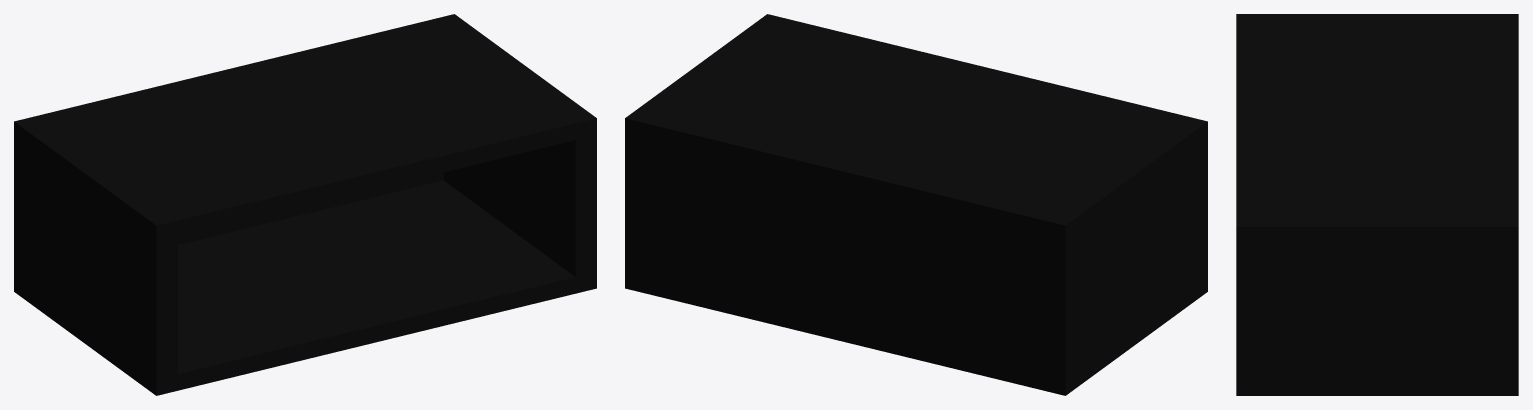
The model's file is Itr_Wardrobe3_Body1_05.FBX.
The picture shows the model from 3 angles, left to right: view 1: azimuth 30°, elevation 25°; view 2: azimuth 150°, elevation 25°; view 3: azimuth 270°, elevation 25°; orthographic projection.
Parts seen in each view (by area): view 1: Itr_Wardrobe3_Body1_05; view 2: Itr_Wardrobe3_Body1_05; view 3: Itr_Wardrobe3_Body1_05.
Part boxes in pixels (left/top/right/bottom): Itr_Wardrobe3_Body1_05: left=14, top=14, right=596, bottom=395; Itr_Wardrobe3_Body1_05: left=625, top=14, right=1207, bottom=395; Itr_Wardrobe3_Body1_05: left=1236, top=14, right=1518, bottom=395.
Bounding box in the file's own units: 43.75 × 16.16 × 24.49.
